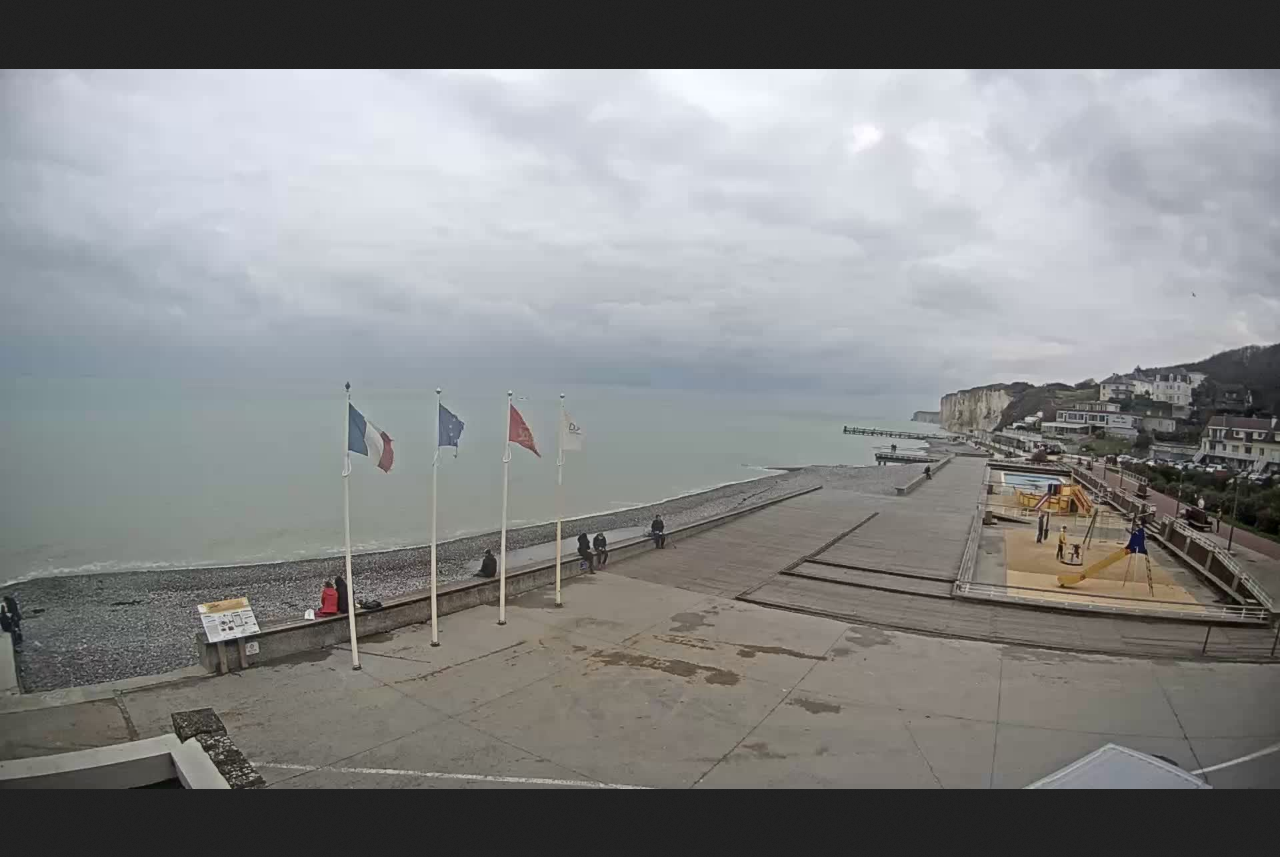maybe: (340, 398, 397, 476), (504, 400, 545, 461)
yes: (427, 401, 469, 454), (557, 411, 586, 458)
